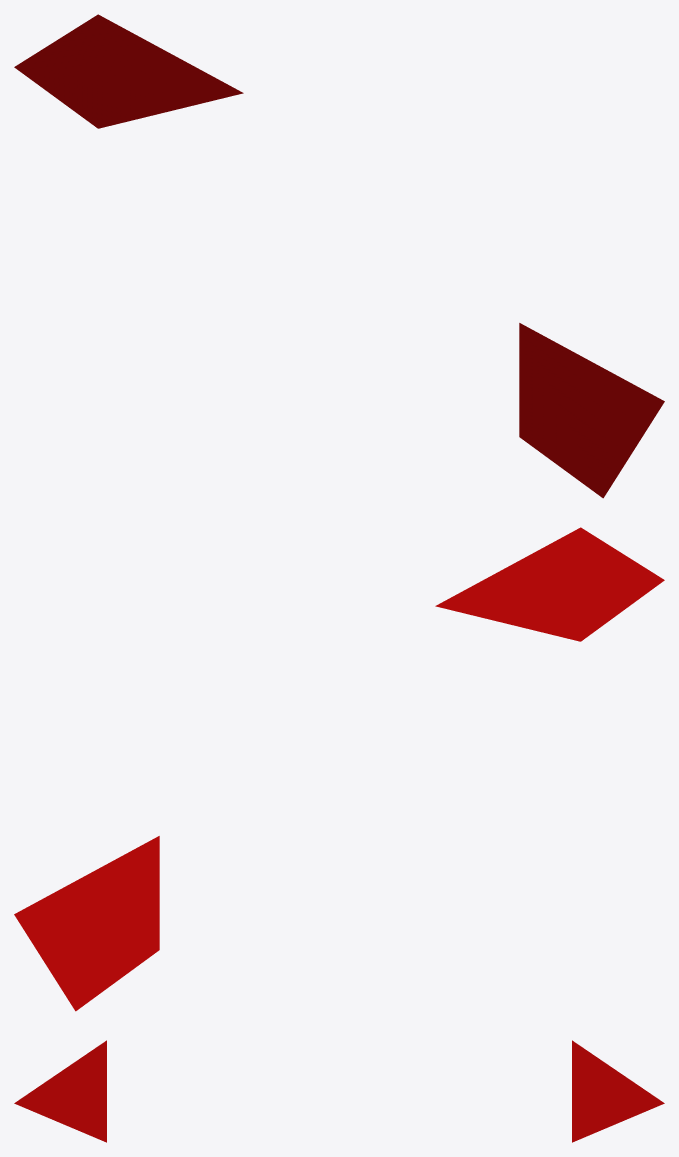
Rendered from reference-scene.glb.
3 views of the same model, one above another, from view 1: azimuth 30°, elevation 25°; view 2: azimuth 150°, elevation 25°; view 3: azimuth 270°, elevation 25° (orthographic). The views are drawn at different scales.
Visible parts, largest first — view 1: Mirrored panel, Upper panel; view 2: Upper panel, Mirrored panel; view 3: Upper panel, Mirrored panel.
Boxes of the visible parts, x1,y1,x2,y2 form: Mirrored panel: (519,323,664,498); Upper panel: (14,14,243,128); Upper panel: (14,836,159,1011); Mirrored panel: (435,527,664,641); Upper panel: (572,1040,664,1142); Mirrored panel: (14,1040,106,1142).
Bounding box in the file's own units: 0.04 × 0.03 × 0.28.
